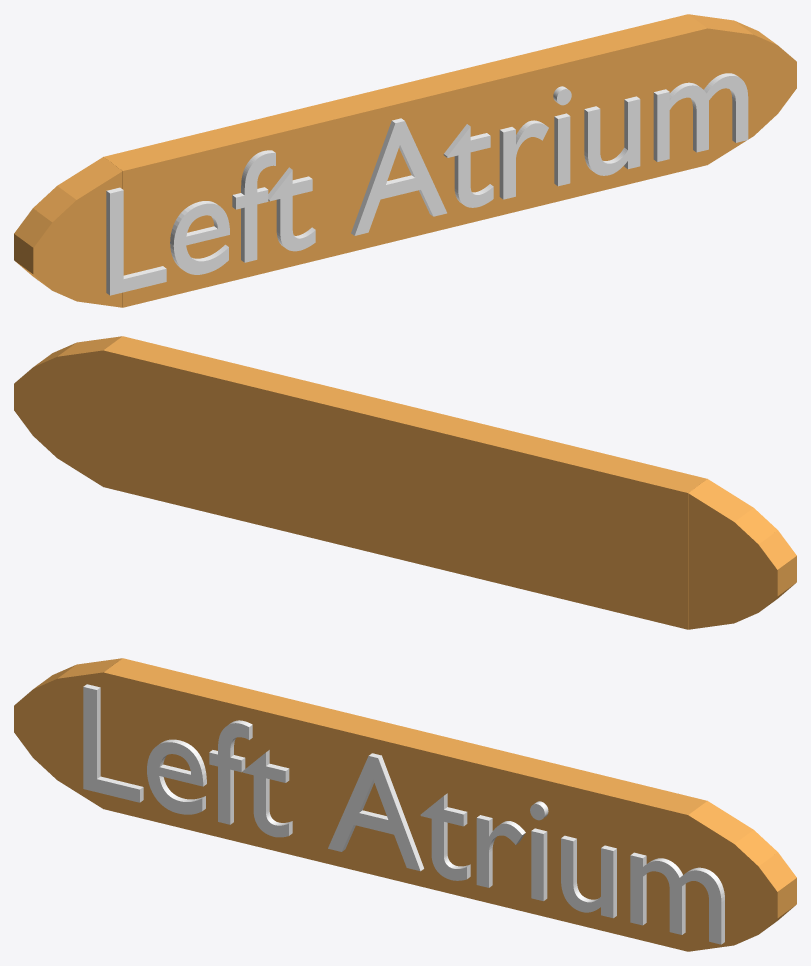
File: txtLeftAtrium.fbx
3 renders of one model, top to bottom at view 1: azimuth 30°, elevation 25°; view 2: azimuth 150°, elevation 25°; view 3: azimuth 330°, elevation 25°, orthographic.
Parts seen in each view (by area): view 1: TagContainer.042, Text.043; view 2: TagContainer.042; view 3: TagContainer.042, Text.043.
Part boxes in pixels (x1,y1,x2,y2): TagContainer.042: [14, 14, 796, 307]; Text.043: [106, 73, 748, 295]; TagContainer.042: [14, 336, 796, 629]; TagContainer.042: [14, 658, 796, 951]; Text.043: [83, 684, 724, 944].
Bounding box in the file's own units: 241 × 41.3 × 12.69.
